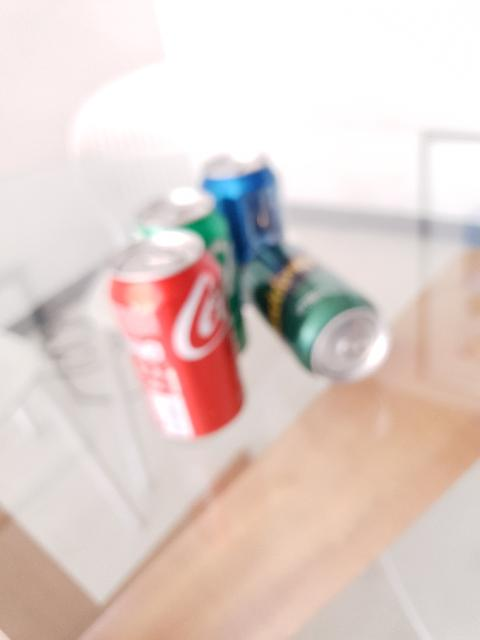coke: (102, 232, 252, 450)
pepsi: (198, 150, 284, 266)
schweppes: (244, 243, 392, 384)
sprite: (130, 188, 248, 358)
